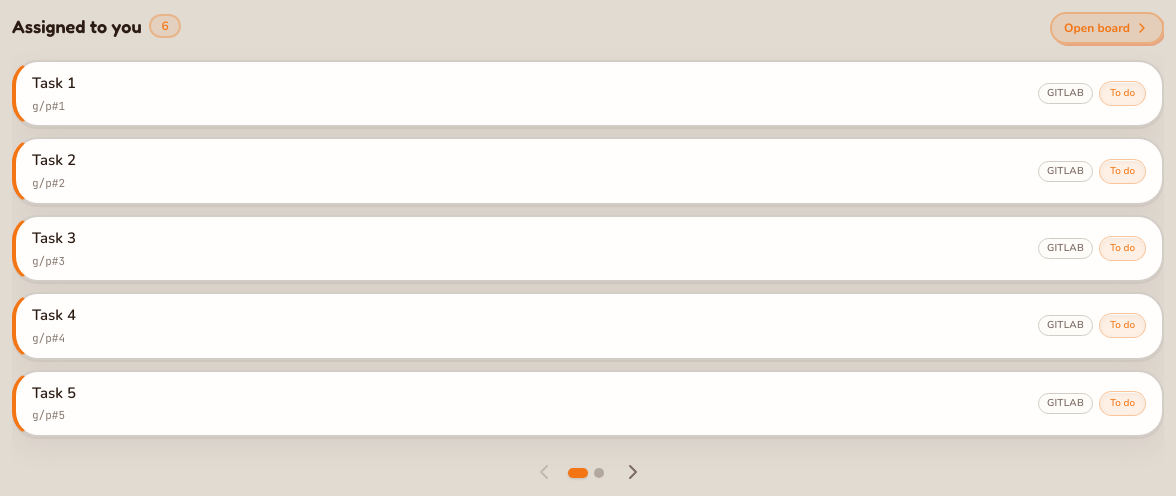
Test: HomeAssignedIssuesSection › pages through issues with dot navigation
Expected: the text "Task 1" is shown, [32, 74, 76, 93]
Expected: the text "Task 6" is not shown
Click the button named "Page 2" at (598, 473), box [594, 468, 604, 478]
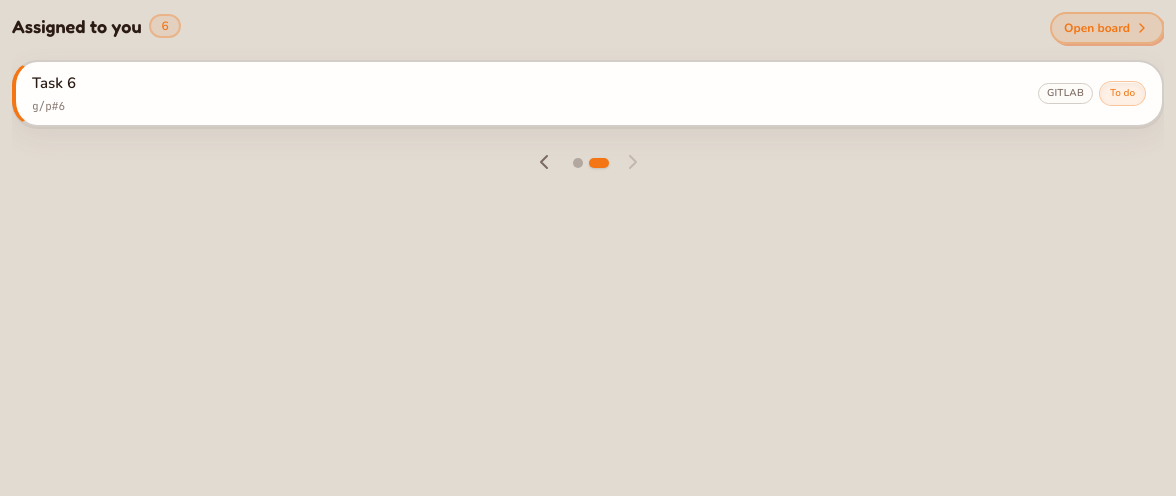
Now the button "Task 1" is gone
Now the text "Task 6" is shown, box [32, 74, 76, 93]
